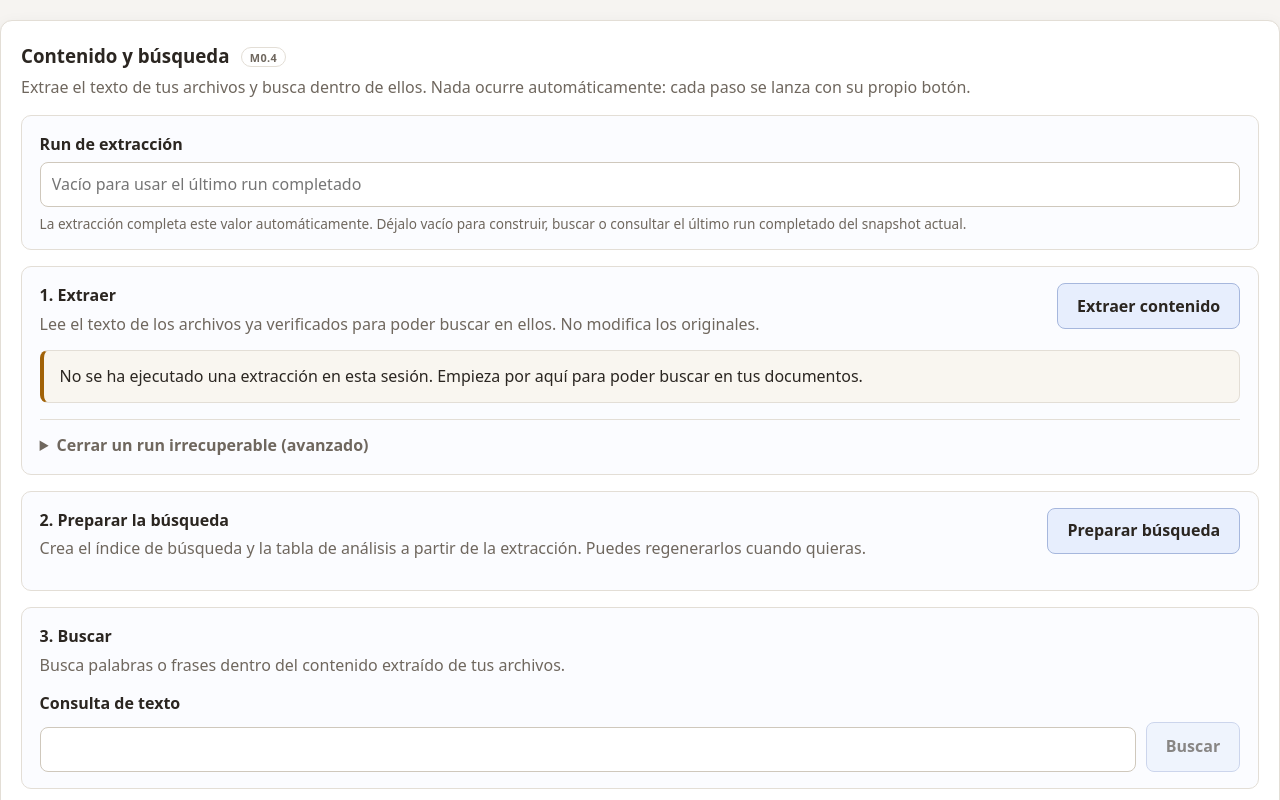
it: ContentIntelligenceView › renders successful extraction counters and selects its run
What coordinates should you click on to do the following:
click the button "Extraer contenido"
I would click on:
 (1149, 306)
Its box is [1057,284,1240,330].
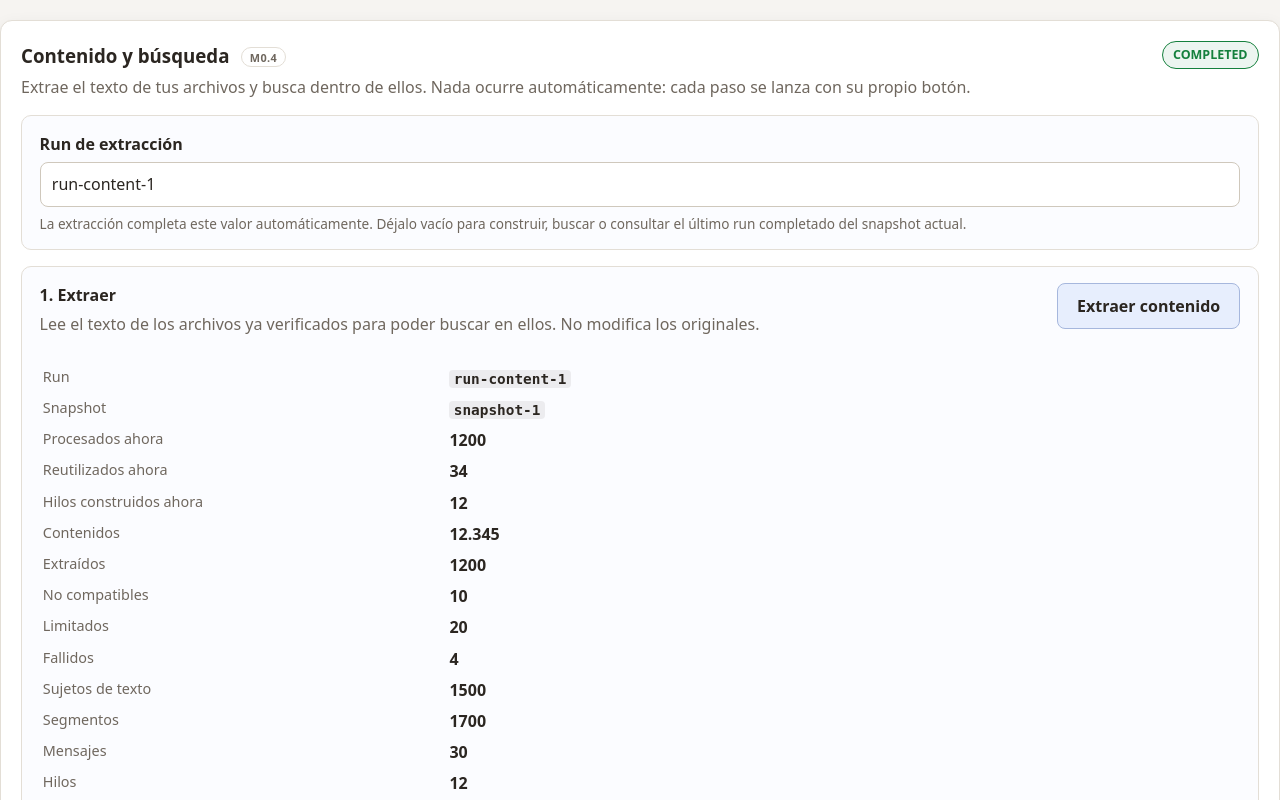
Check: the text "12.345" is shown, box [450,523,500,545]
Check: the field labelled "Run de extracción" holds "run-content-1", box [40,162,1240,207]
Check: the text "COMPLETED" is shown, box [1162,41,1259,69]
